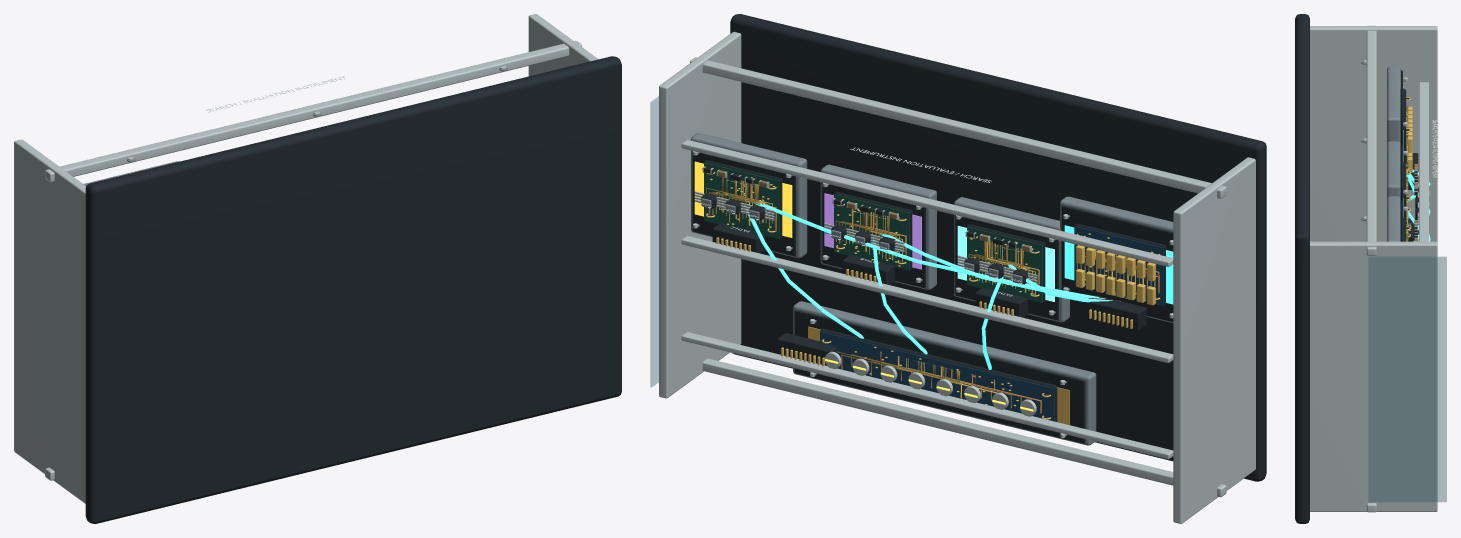
The model's file is history-search-v003.glb.
3 views of the same model, side by side, from view 1: azimuth 30°, elevation 25°; view 2: azimuth 150°, elevation 25°; view 3: azimuth 270°, elevation 25° (orthographic). The views are drawn at different scales.
Visible parts, largest first — view 1: GEO-instrument-base.001, GEO-frame-upright.002, GEO-frame-crossrail.003, GEO-frame-upright.003; view 2: GEO-instrument-base.001, GEO-frame-upright.002, GEO-frame-upright.003, GEO-frame-crossrail.003, GEO-frame-crossrail.002, GEO-module-faceplate.009, GEO-EVAL-05-solder-mask, GEO-search-guide-rail.002, GEO-search-guide-rail.001, GEO-search-guide-rail, GEO-module-carrier.009, GEO-module-faceplate.005 (+21 smaller); view 3: GEO-frame-upright.003, GEO-frame-upright.002, GEO-observation-side-panel.001, GEO-instrument-base.001, GEO-frame-crossrail.003, GEO-search-guide-rail.002, GEO-module-carrier.005, GEO-module-carrier.006, GEO-module-carrier.007, GEO-search-title, GEO-STATE-01-substrate, GEO-PATH-A-substrate.
Boxes of the visible parts, <box> form: GEO-instrument-base.001: <box>85,56,621,523</box>; GEO-frame-upright.002: <box>14,139,85,503</box>; GEO-frame-crossrail.003: <box>45,40,581,182</box>; GEO-frame-upright.003: <box>528,14,598,76</box>; GEO-instrument-base.001: <box>730,14,1266,481</box>; GEO-frame-upright.002: <box>1173,157,1255,523</box>; GEO-frame-upright.003: <box>659,32,741,398</box>; GEO-frame-crossrail.003: <box>690,57,1226,198</box>; GEO-frame-crossrail.002: <box>702,358,1226,497</box>; GEO-module-faceplate.009: <box>794,310,1085,443</box>; GEO-EVAL-05-solder-mask: <box>820,331,1054,421</box>; GEO-search-guide-rail.002: <box>681,139,1173,266</box>; GEO-search-guide-rail.001: <box>681,236,1173,362</box>; GEO-search-guide-rail: <box>681,332,1173,459</box>; GEO-module-carrier.009: <box>793,301,1096,445</box>; GEO-module-faceplate.005: <box>1061,205,1173,321</box>; GEO-frame-upright.003: <box>1310,241,1437,511</box>; GEO-frame-upright.002: <box>1310,26,1437,242</box>; GEO-observation-side-panel.001: <box>1368,257,1446,501</box>; GEO-instrument-base.001: <box>1295,14,1309,523</box>; GEO-frame-crossrail.003: <box>1366,25,1376,255</box>; GEO-search-guide-rail.002: <box>1419,82,1428,241</box>; GEO-module-carrier.005: <box>1387,66,1400,142</box>; GEO-module-carrier.006: <box>1387,141,1400,198</box>; GEO-module-carrier.007: <box>1387,196,1400,241</box>; GEO-search-title: <box>1432,120,1438,178</box>; GEO-STATE-01-substrate: <box>1400,88,1405,163</box>; GEO-PATH-A-substrate: <box>1400,162,1405,219</box>.
Bounding box in the file's own units: 8.4 × 5.1 × 2.41.
